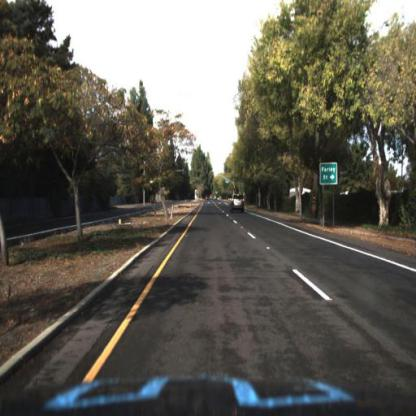car: (231, 192, 247, 215)
